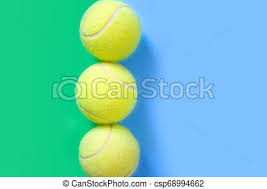tennis_ball: (74, 62, 137, 124), (79, 1, 142, 62), (78, 124, 139, 177)
